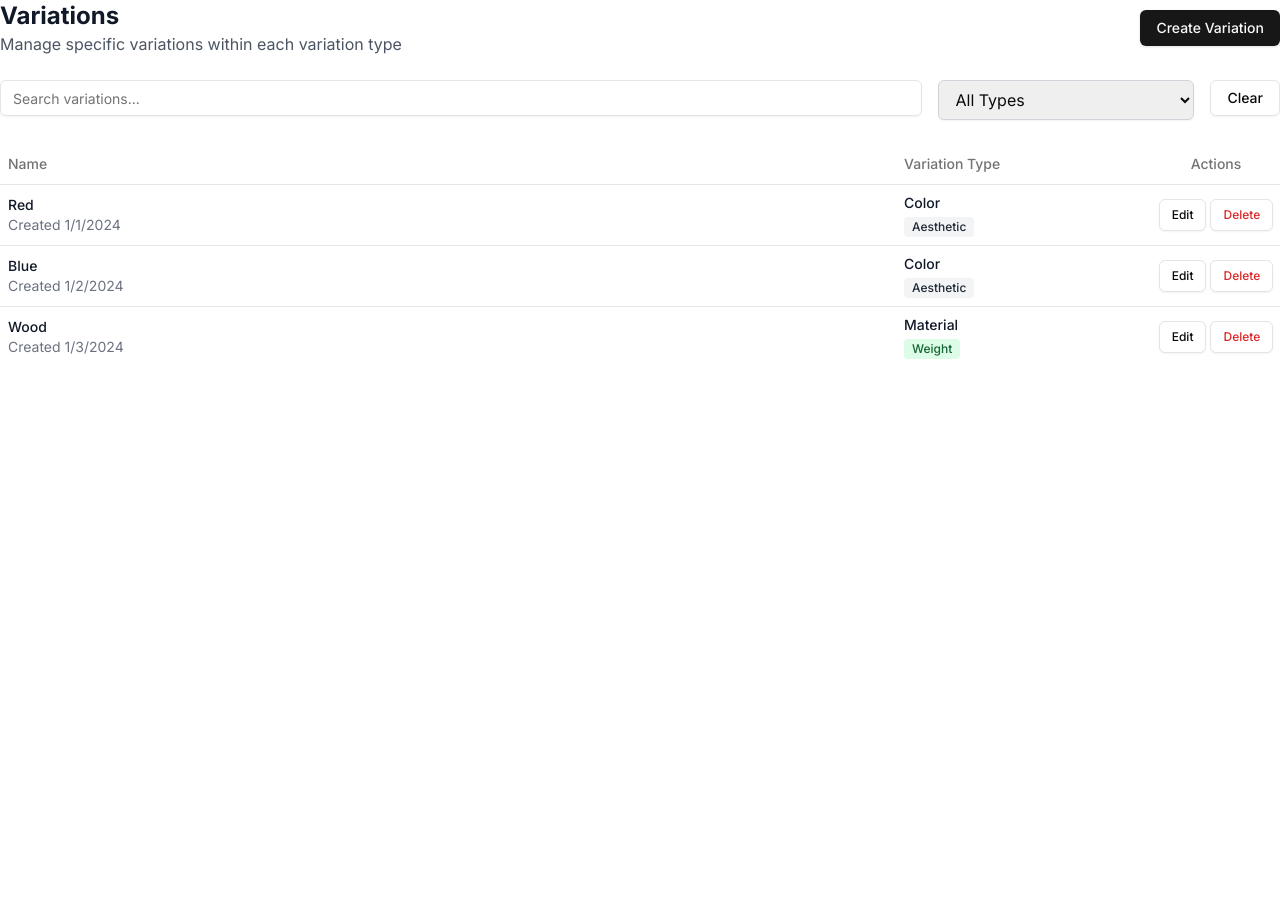
Test case: VariationList › opens edit modal when edit button is clicked
This screenshot has width=1280, height=900.
Click the button "Edit" in the row of "Red" at (1183, 214), box x1=1159 y1=198 x2=1206 y2=230
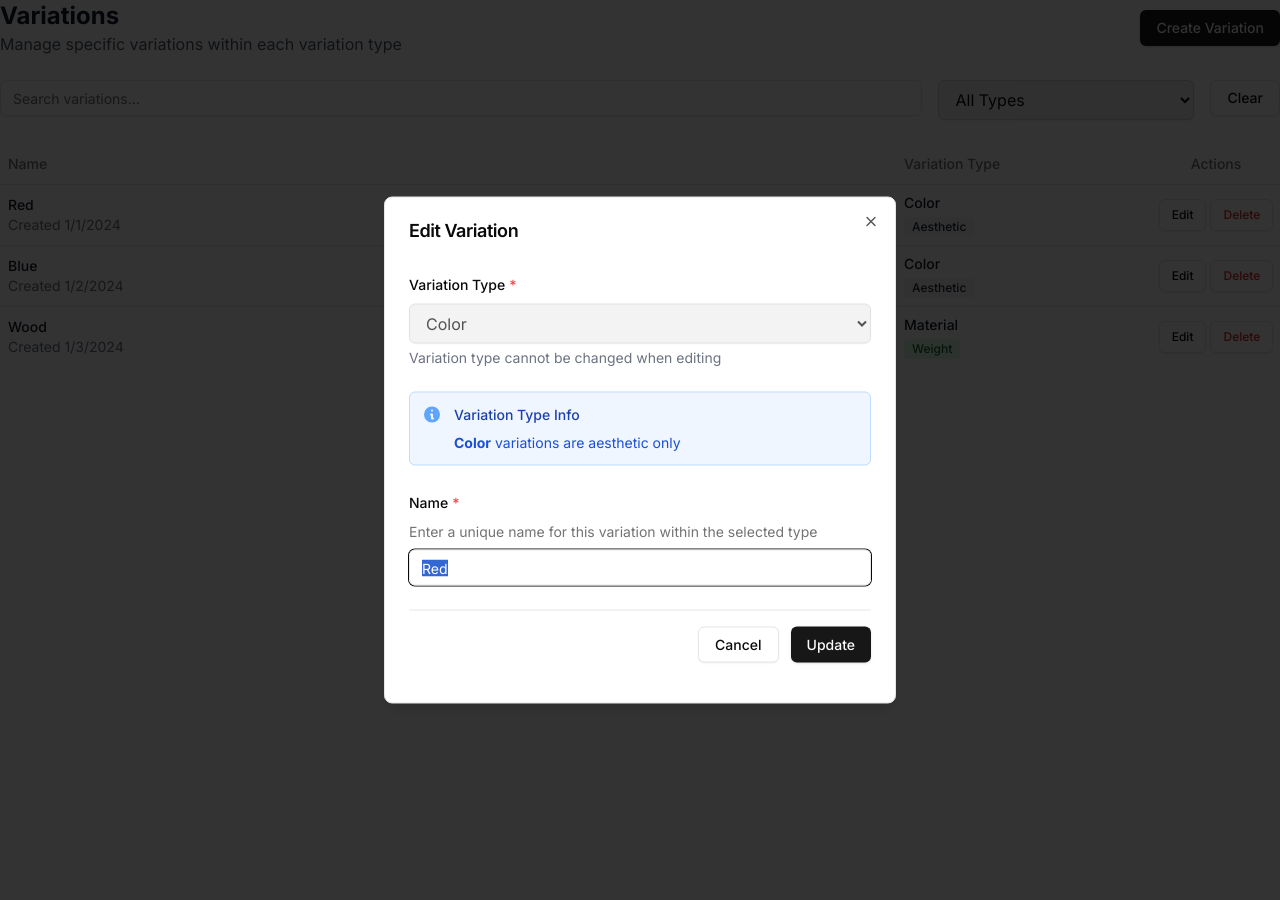
Result: the heading "Edit Variation" is shown at x1=409 y1=220 x2=518 y2=240
Result: the field showing "Red" is shown at x1=409 y1=550 x2=871 y2=586
